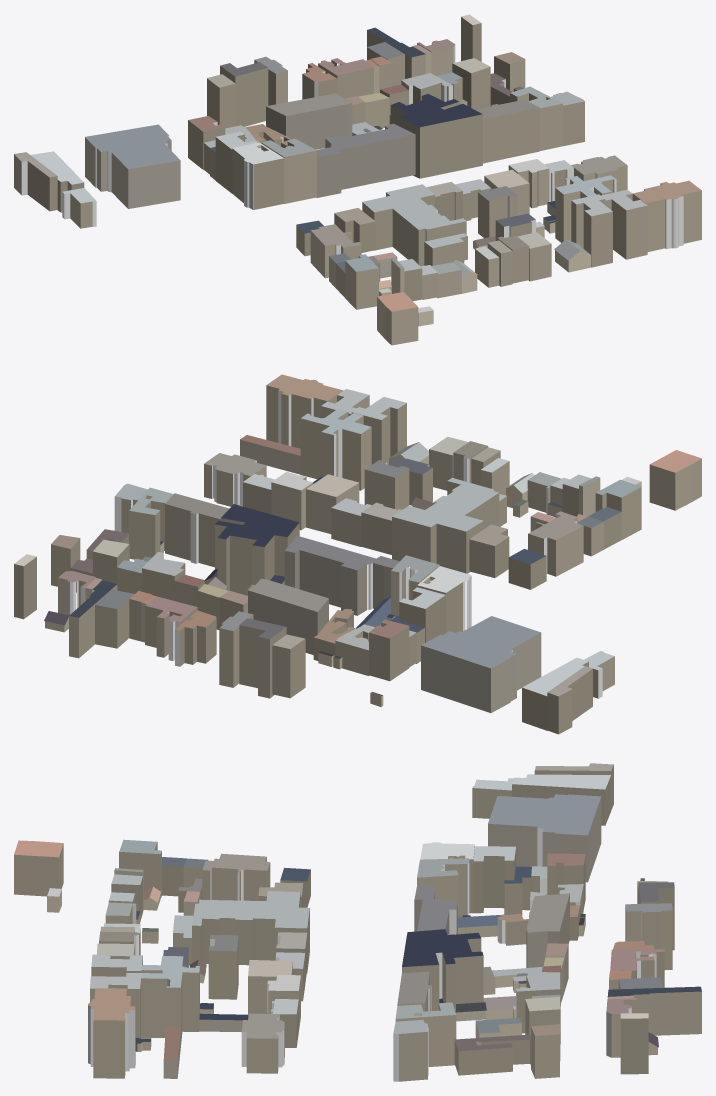
The picture shows the model from 3 angles, top to bottom: view 1: azimuth 30°, elevation 25°; view 2: azimuth 150°, elevation 25°; view 3: azimuth 270°, elevation 25°; orthographic projection. The views are drawn at different scales.
Parts seen in each view (by area): view 1: tuile; view 2: tuile; view 3: tuile.
Boxes of the visible parts, x1,y1,x2,y2 form: tuile: (14, 14, 701, 345); tuile: (14, 374, 701, 734); tuile: (14, 763, 701, 1081).
Bounding box in the file's own units: 259 × 28.61 × 273.
